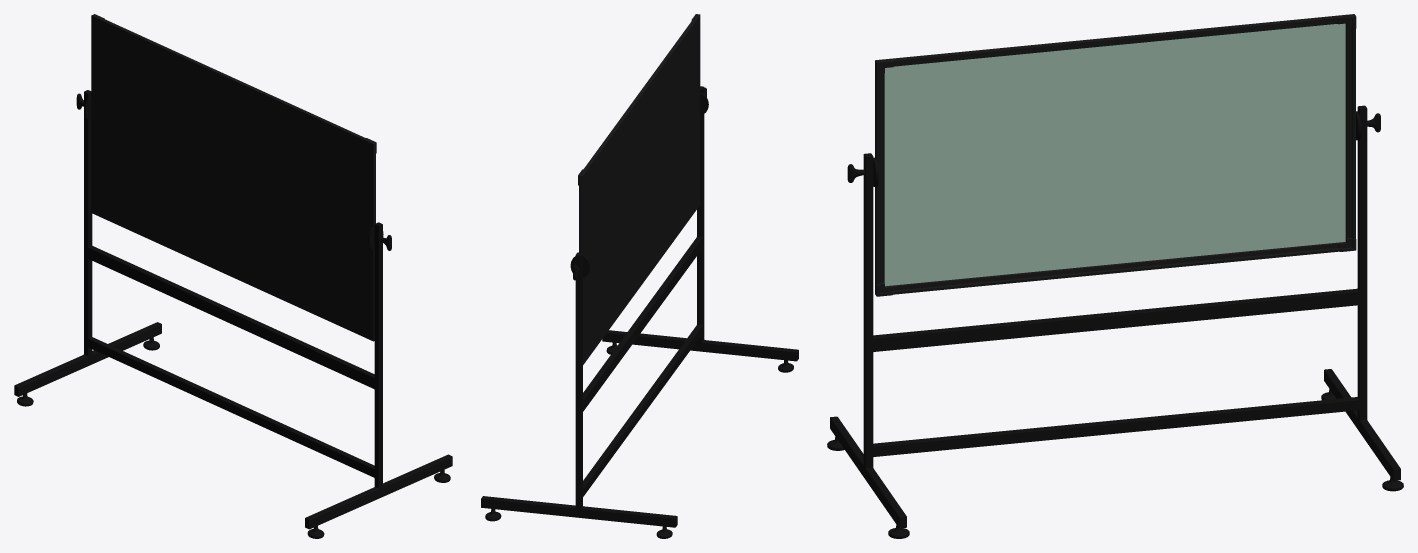
File: Tablero.gltf
3 views of the same model, side by side, from view 1: azimuth 30°, elevation 25°; view 2: azimuth 150°, elevation 25°; view 3: azimuth 270°, elevation 25° (orthographic). The views are drawn at different scales.
Visible parts, largest first — view 1: 3DSMeshMatrix.009, 3DSMeshMatrix.008; view 2: 3DSMeshMatrix.009, 3DSMeshMatrix.008; view 3: 3DSMeshMatrix.009, 3DSMeshMatrix.008.
Boxes of the visible parts, x1=… form: 3DSMeshMatrix.009: x1=91, y1=14, x2=376, y2=341; 3DSMeshMatrix.008: x1=14, y1=90, x2=452, y2=529; 3DSMeshMatrix.009: x1=578, y1=14, x2=700, y2=364; 3DSMeshMatrix.008: x1=481, y1=86, x2=798, y2=527; 3DSMeshMatrix.009: x1=875, y1=14, x2=1356, y2=296; 3DSMeshMatrix.008: x1=830, y1=105, x2=1400, y2=528.
Size of the model in its own units: 3.01 by 4.07 by 4.95.
